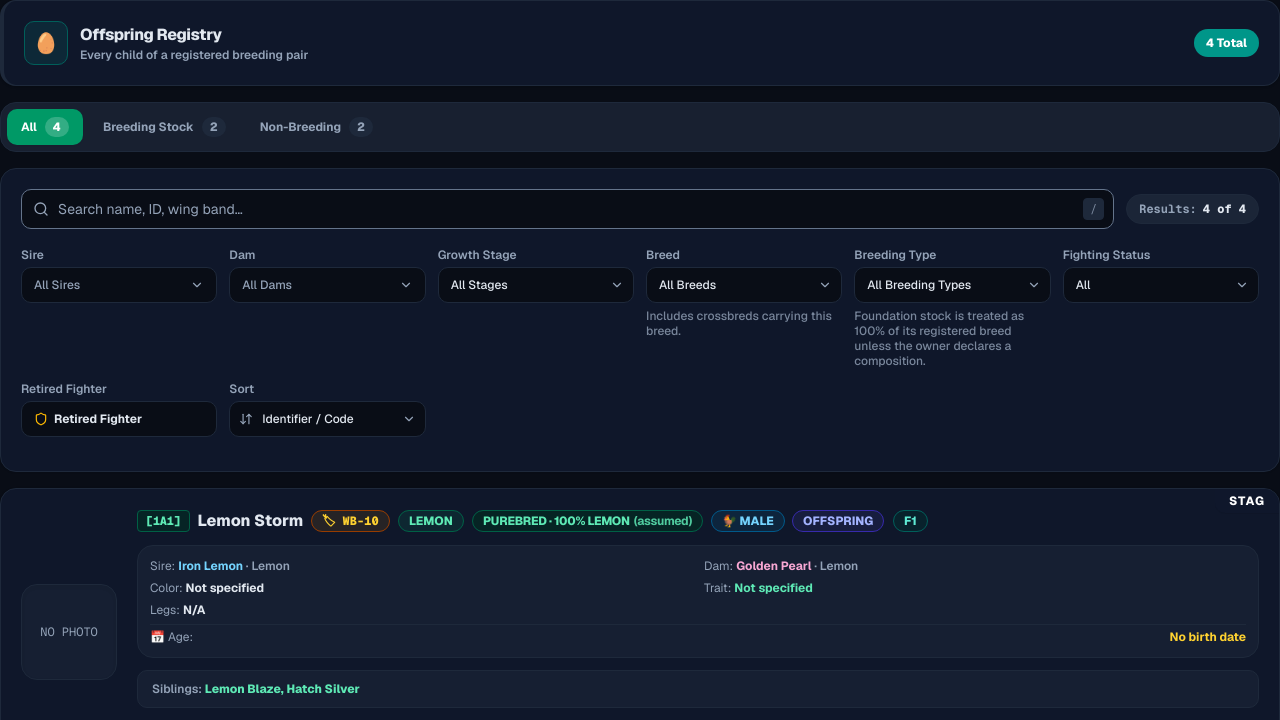
Test case: Offspring Breeding Classification & Fighting Status Registry › supports Non-Breeding chicken with No Fight Record (orthogonal dimensions)
This screenshot has width=1280, height=720.
# Select Non-Breeding classification pill
Click the tab "Non-Breeding 2": (316, 127) [246,109,387,145]
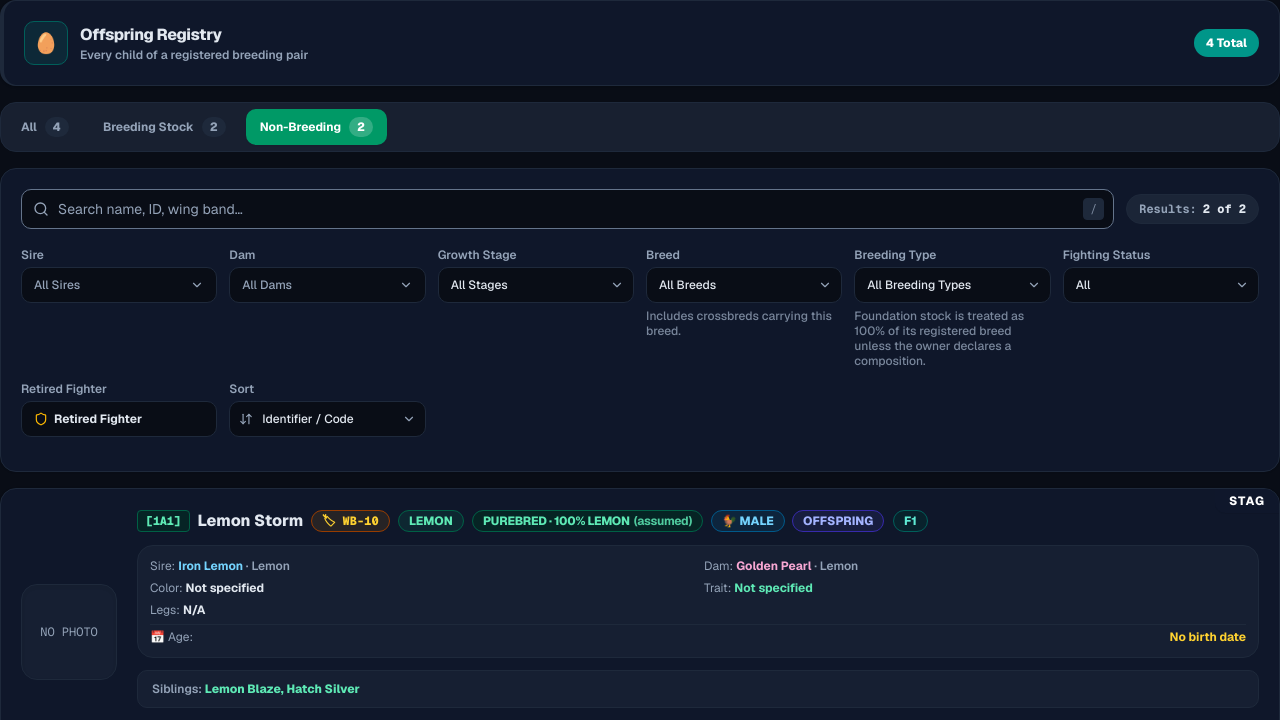
# Select Fighting Status filter: "without" (No Fight Record)
Select "No Fight Record" in the dropdown labelled "Fighting Status": (1161, 285) [1063,267,1259,303]
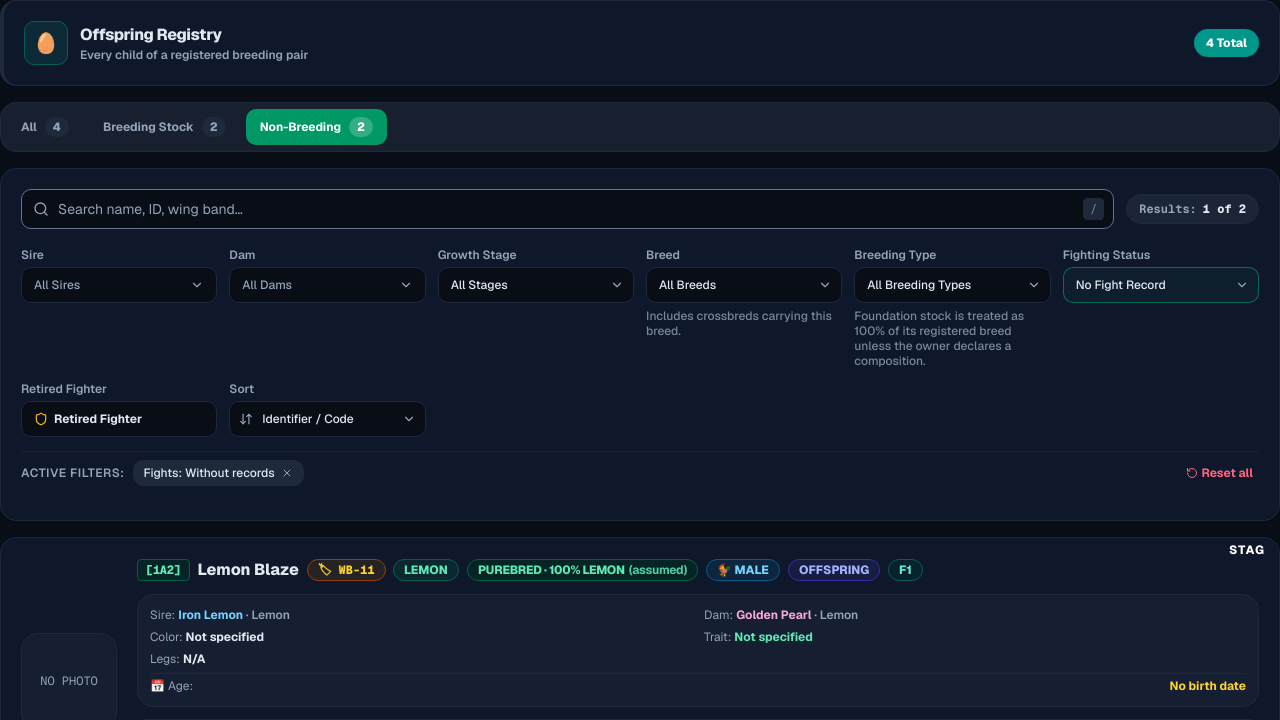
Expected: the heading "[1A2] Lemon Blaze" is shown, [137,558,299,582]
Expected: the text "1 of 2" is shown, [1203,201,1246,217]
